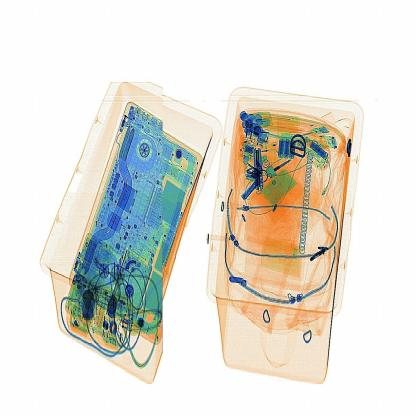scissors: (245, 140, 272, 200)
